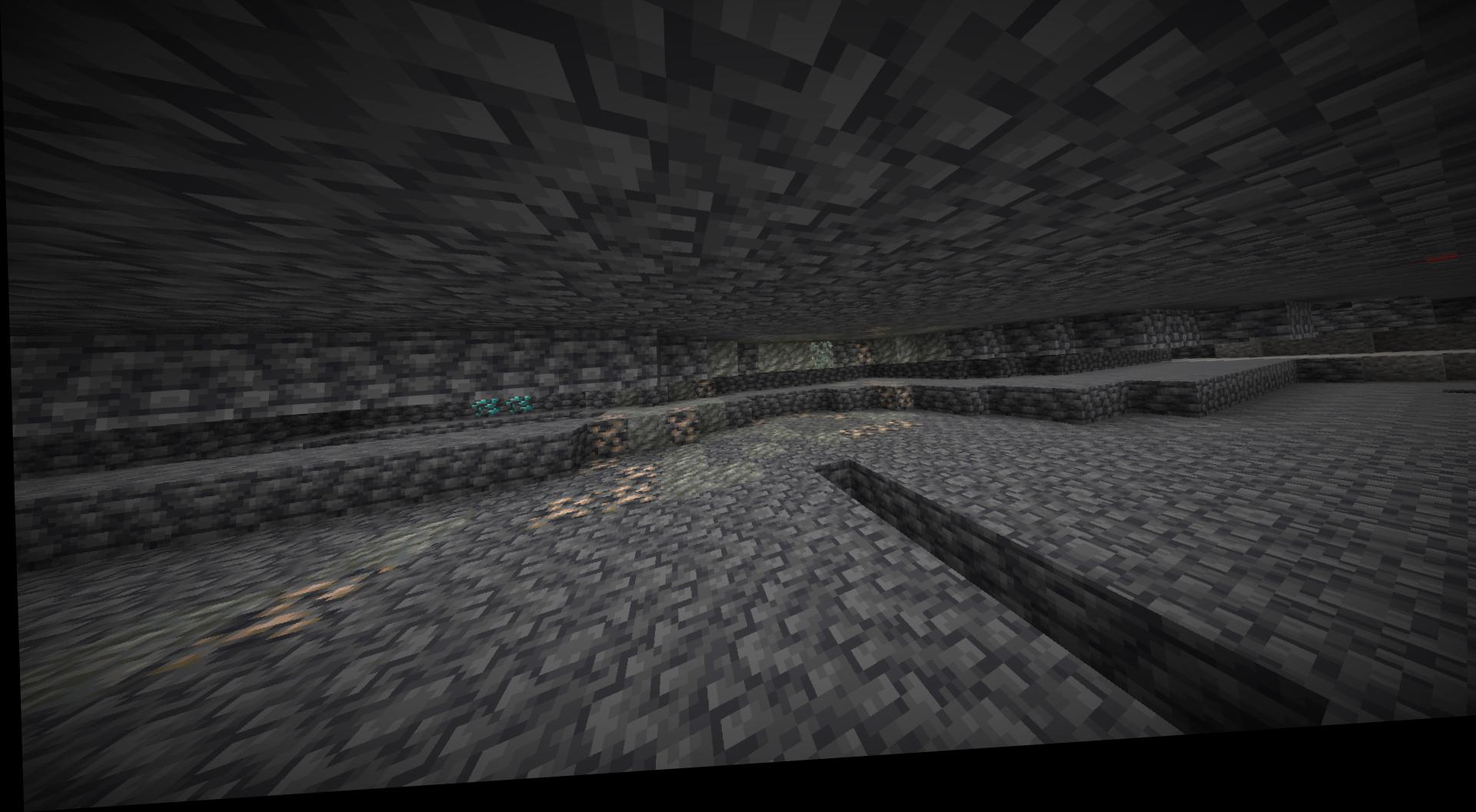diamond ore: (464, 404, 501, 428), (500, 399, 529, 425)
iron ore: (177, 574, 341, 665), (531, 493, 596, 536), (575, 428, 627, 481), (598, 490, 660, 520), (839, 429, 914, 452), (658, 416, 697, 452), (876, 389, 910, 428), (617, 467, 659, 493), (686, 379, 716, 413), (848, 353, 874, 380)
